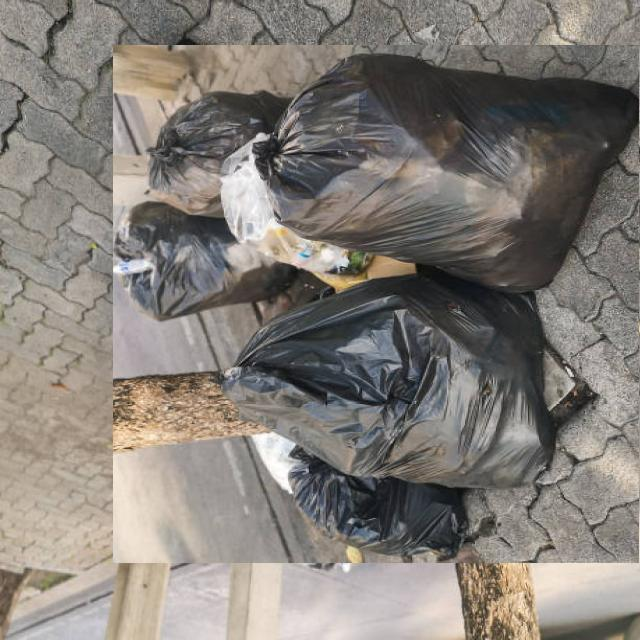garbage: (117, 41, 640, 568)
